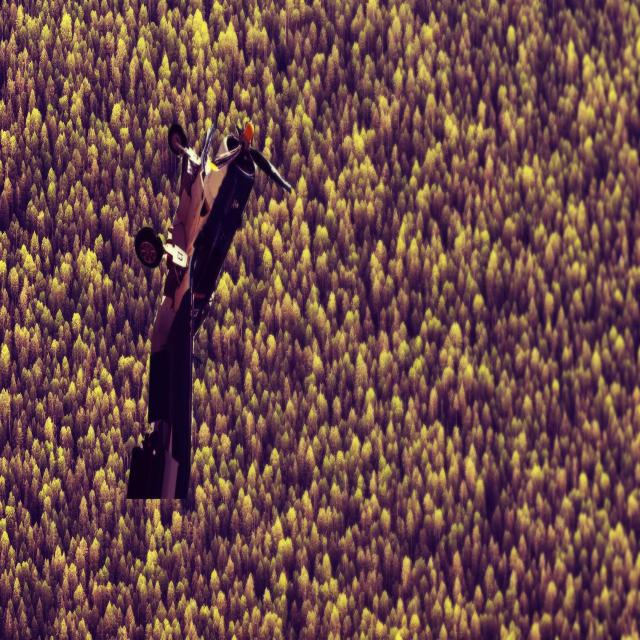airplane: (125, 118, 292, 502)
